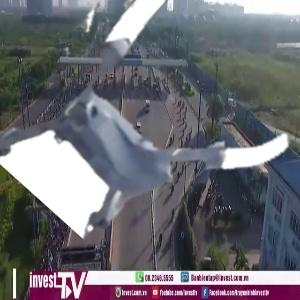drone: (26, 4, 280, 258)
